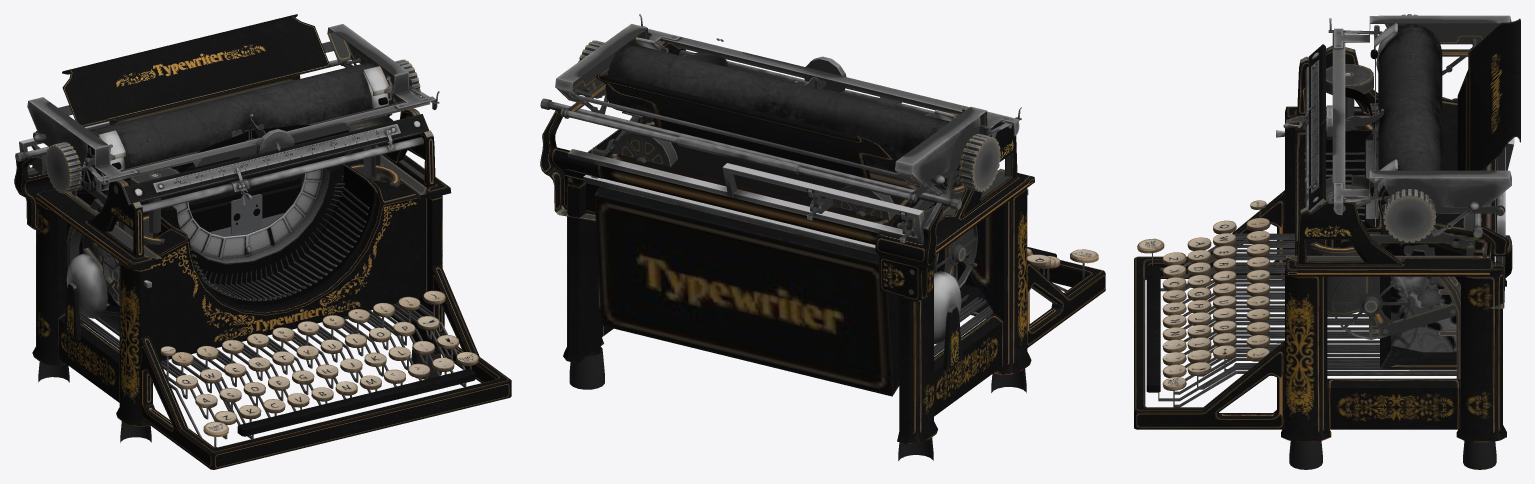
Rendered from office-typewriter-b.glb.
3 views of the same model, side by side, from view 1: azimuth 30°, elevation 25°; view 2: azimuth 150°, elevation 25°; view 3: azimuth 270°, elevation 25° (orthographic). The views are drawn at different scales.
Visible parts, largest first — view 1: office-typewriter-b; view 2: office-typewriter-b; view 3: office-typewriter-b.
Part boxes in pixels (left/top/right/bottom): office-typewriter-b: left=14, top=14, right=511, bottom=469; office-typewriter-b: left=540, top=14, right=1105, bottom=460; office-typewriter-b: left=1134, top=14, right=1520, bottom=469.
Bounding box in the file's own units: 0.3556 × 0.27 × 0.306.
5 materials, 5 textured.
